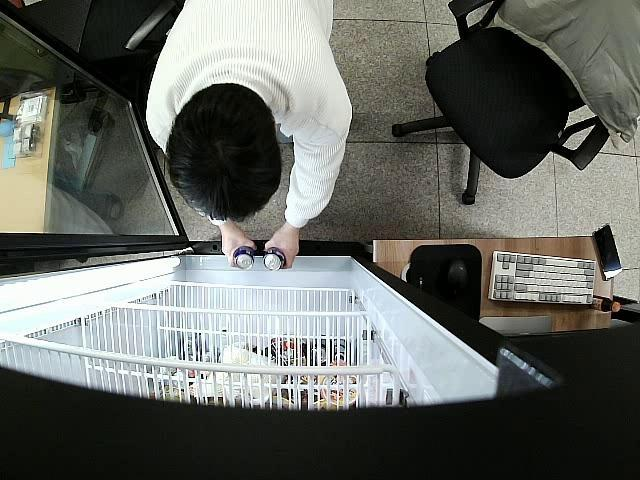14_welchsGrape: (232, 246, 258, 270), (264, 248, 285, 271)
